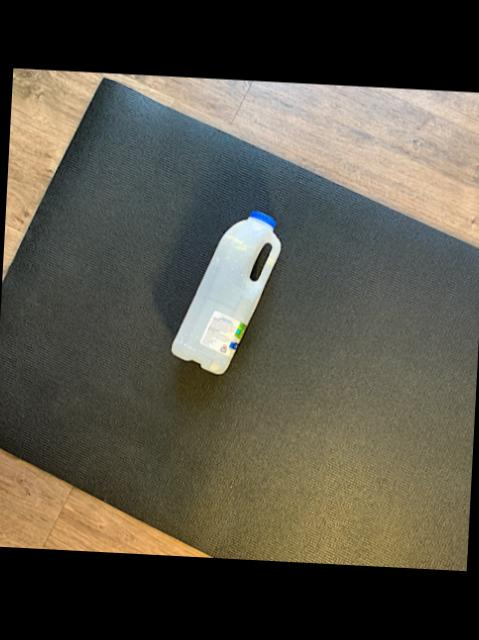plastic: (172, 210, 281, 373)
